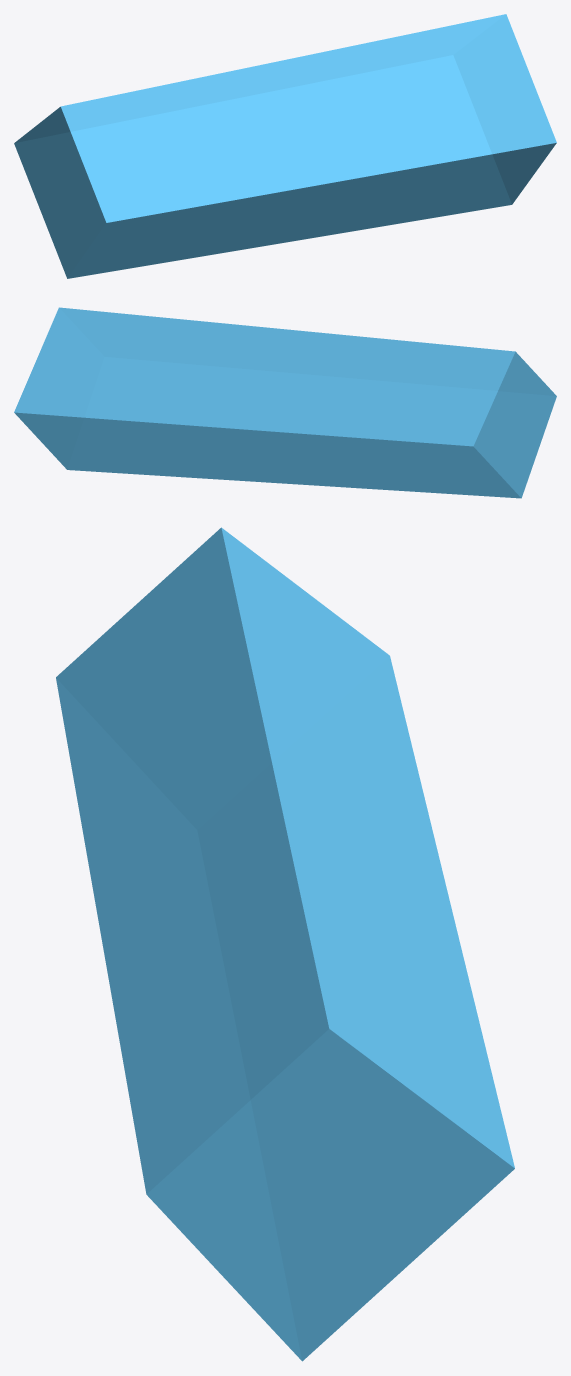
The model's file is Event_421278790_HErechit_15.fbx.
3 renders of one model, top to bottom at view 1: azimuth 30°, elevation 25°; view 2: azimuth 150°, elevation 25°; view 3: azimuth 270°, elevation 25°, orthographic. The views are drawn at different scales.
Parts seen in each view (by area): view 1: Model; view 2: Model; view 3: Model.
Part boxes in pixels (box(x1,y1,x2,y2)): Model: box(14, 14, 556, 278); Model: box(14, 307, 556, 498); Model: box(56, 527, 514, 1361).
Size of the model in its own units: 1.07 by 0.494 by 0.494.
